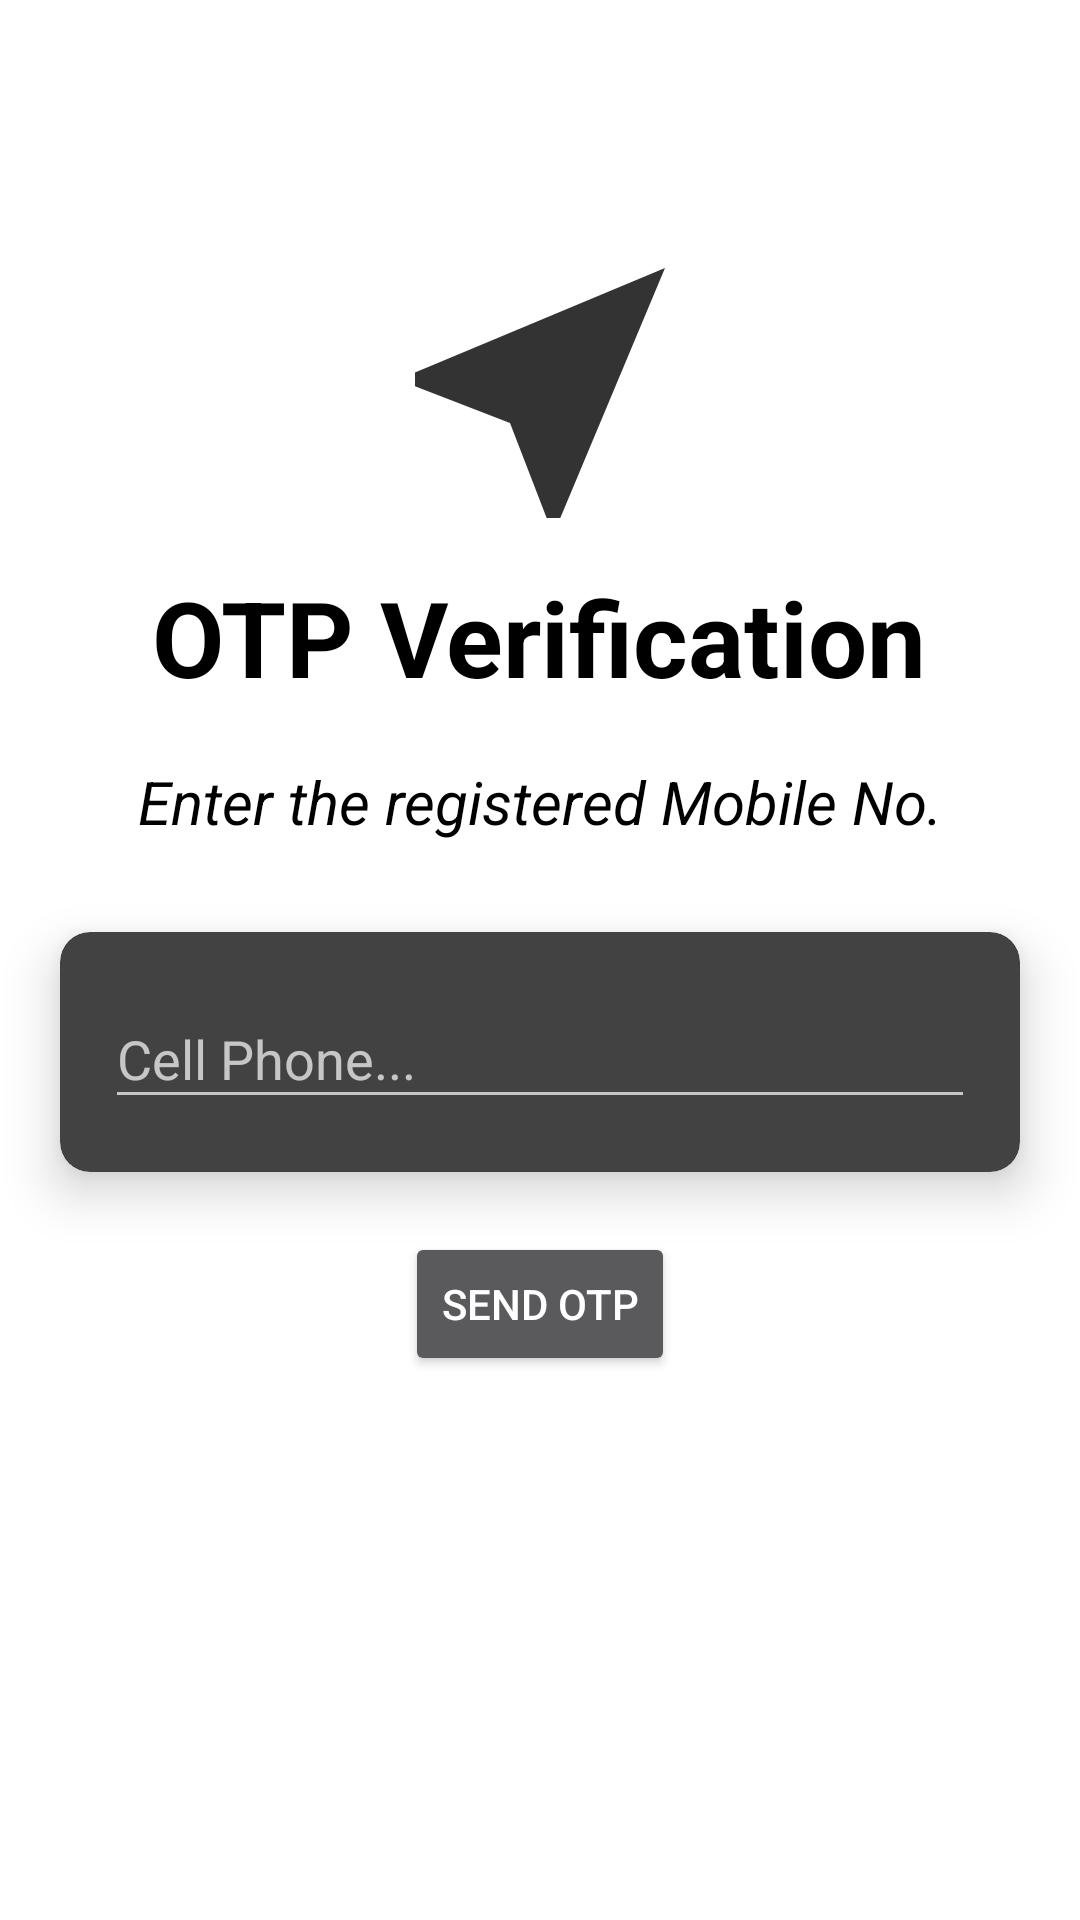

Icon bounding boxes for this 1080×1920 phone screenshot, format (x1, y1, x2, y2):
arrow: (415, 268, 665, 518)
